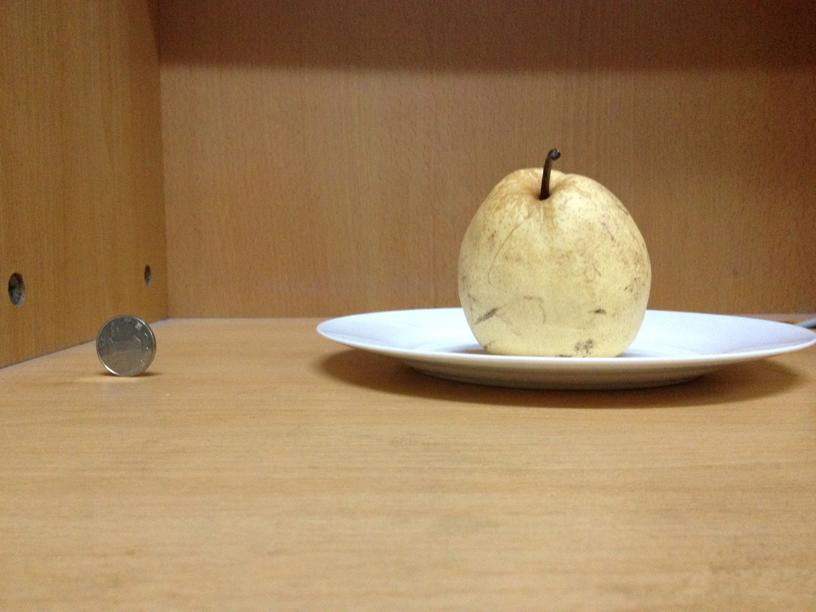coin: (91, 310, 155, 376)
pear: (452, 145, 652, 356)
